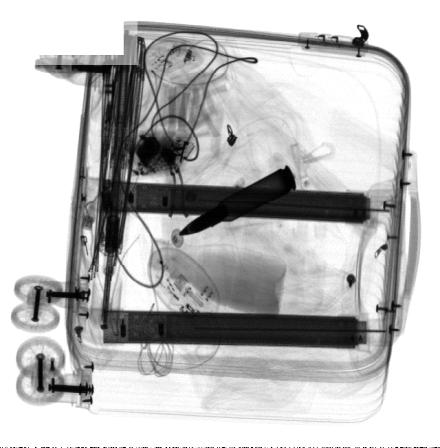Bullet: (178, 165, 296, 235)
